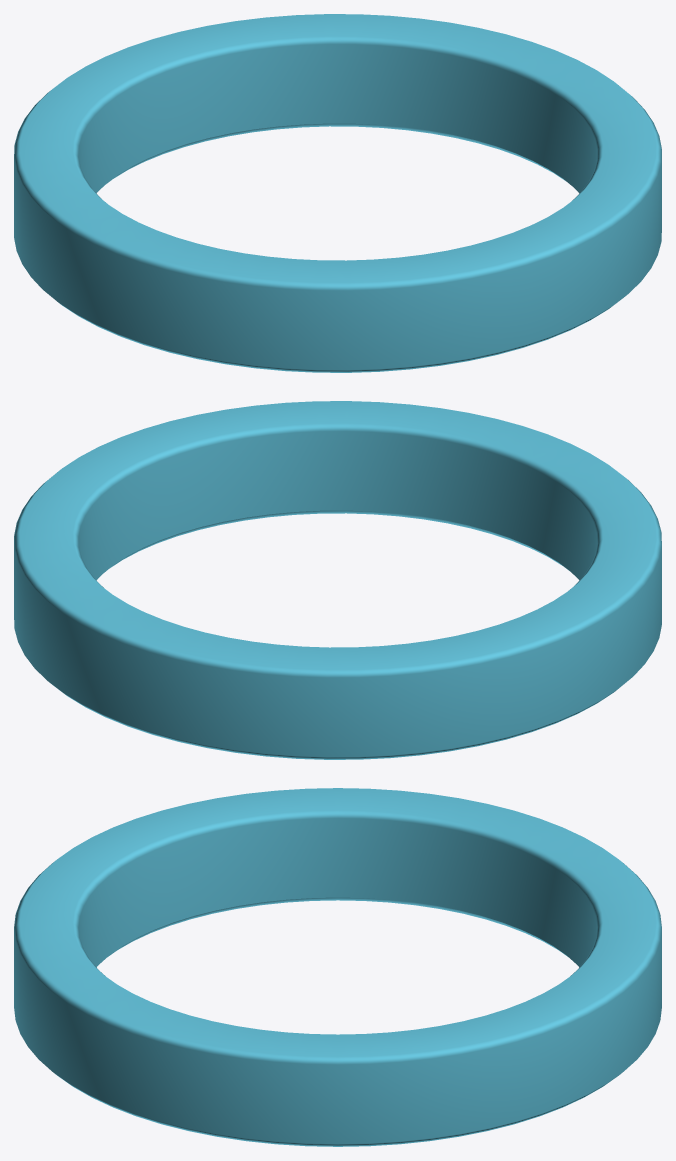
3 renders of one model, top to bottom at view 1: azimuth 30°, elevation 25°; view 2: azimuth 150°, elevation 25°; view 3: azimuth 270°, elevation 25°, orthographic.
Visible parts, largest first — view 1: seal_body; view 2: seal_body; view 3: seal_body.
Part boxes in pixels (x1=…): seal_body: x1=14, y1=14, x2=661, y2=372; seal_body: x1=14, y1=401, x2=661, y2=759; seal_body: x1=14, y1=788, x2=661, y2=1146.
Size of the model in its own units: 0.075 by 0.0115 by 0.075.
